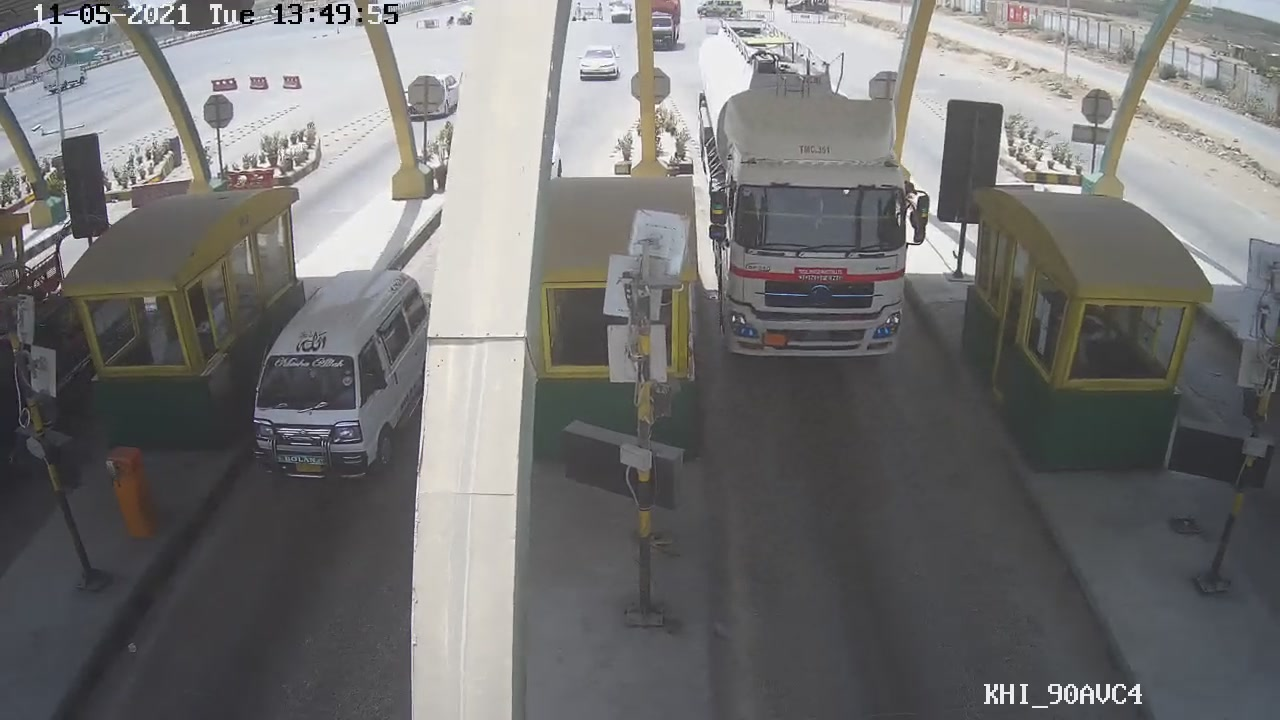F6: (699, 19, 931, 365)
